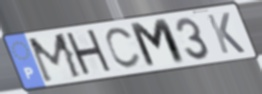3: (174, 16, 213, 61)
C: (104, 25, 143, 71)
H: (63, 27, 116, 79)
K: (204, 11, 248, 56)
M: (127, 17, 189, 71), (26, 32, 85, 86)
